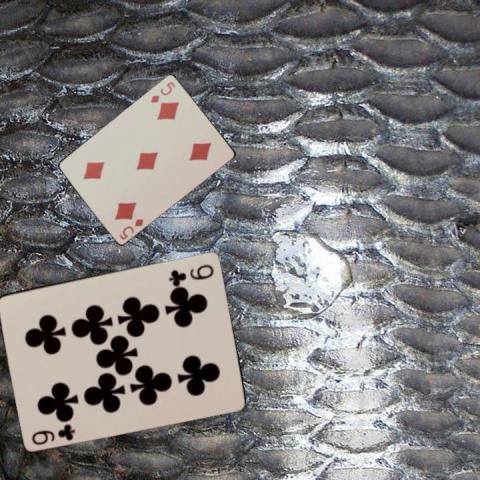5d: (147, 78, 177, 104), (116, 215, 145, 241)
9c: (28, 420, 76, 446), (166, 261, 215, 284)
